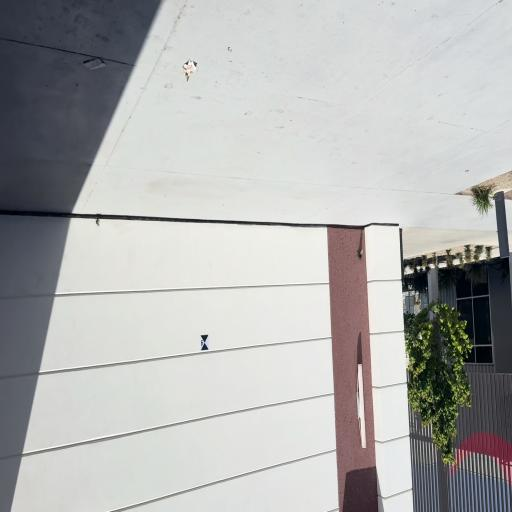target4: (201, 335, 209, 351)
